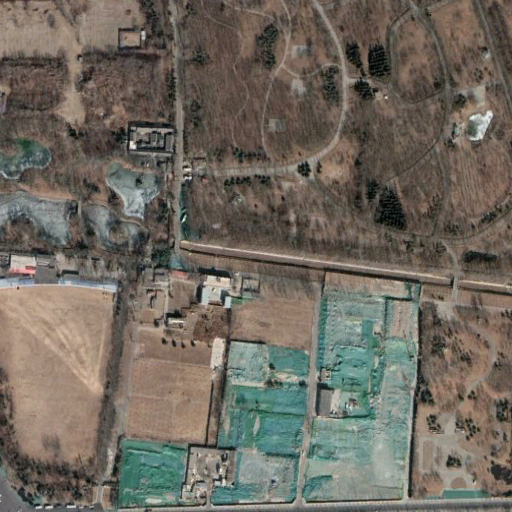cw: (112, 285, 420, 505)
